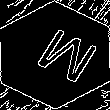M_SW: (18, 22, 92, 88)
